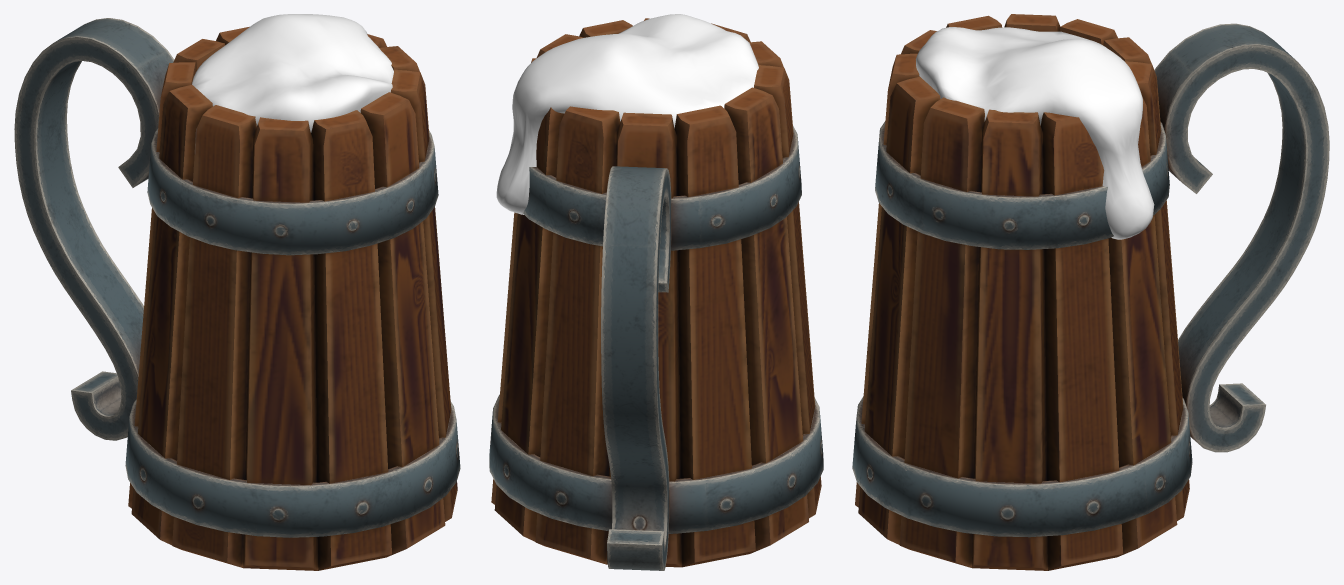
Rendered from beer_mug.fbx.
3 renders of one model, left to right at view 1: azimuth 30°, elevation 25°; view 2: azimuth 150°, elevation 25°; view 3: azimuth 270°, elevation 25°, orthographic.
Parts seen in each view (by area): view 1: 2_low001, Plane001; view 2: 2_low001, Plane001; view 3: 2_low001, Plane001.
Boxes of the visible parts, box(x1,y1,x2,y2) form: 2_low001: box(14, 18, 460, 570); Plane001: box(192, 14, 393, 132); 2_low001: box(489, 18, 823, 570); Plane001: box(496, 14, 758, 214); 2_low001: box(852, 14, 1329, 570); Plane001: box(916, 27, 1154, 239).
Size of the model in its own units: 0.2057 by 0.3189 by 0.2886.
